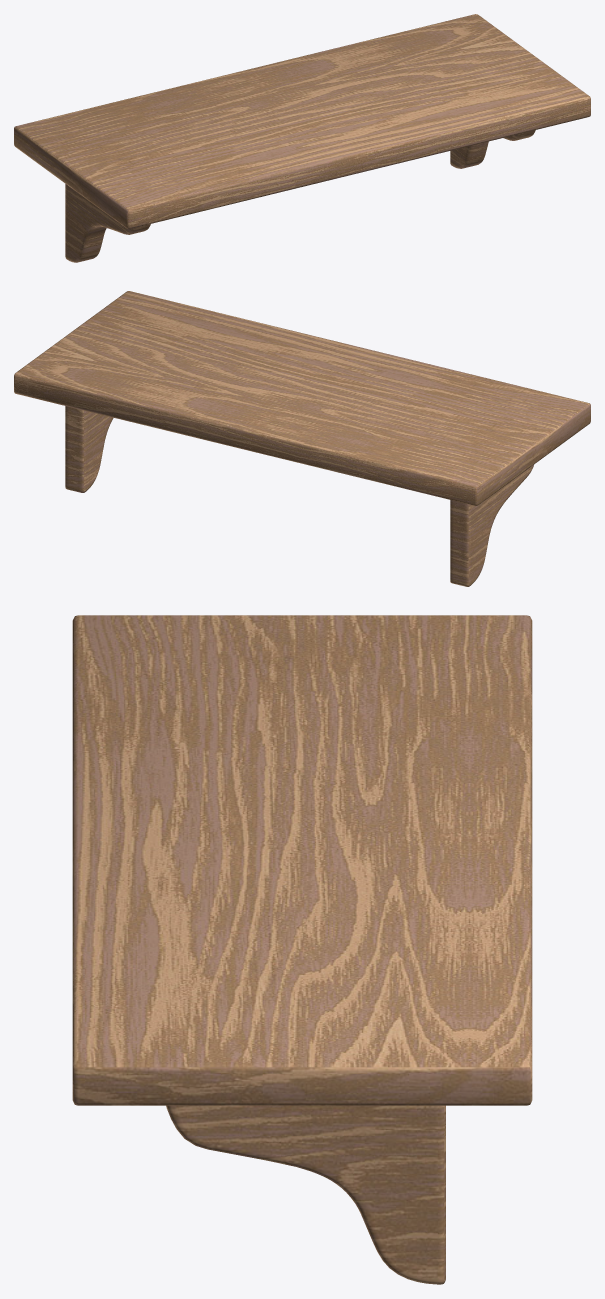
The model's file is floater.glb.
The picture shows the model from 3 angles, top to bottom: view 1: azimuth 30°, elevation 25°; view 2: azimuth 150°, elevation 25°; view 3: azimuth 270°, elevation 25°; orthographic projection. The views are drawn at different scales.
Visible parts, largest first — view 1: Shelf_2.001, Peg.002, Peg_2.001; view 2: Shelf_2.001, Peg.002, Peg_2.001; view 3: Shelf_2.001, Peg_2.001.
Part boxes in pixels (<box>): Shelf_2.001: <box>14,14,590,228</box>; Peg.002: <box>65,184,150,262</box>; Peg_2.001: <box>450,130,535,168</box>; Shelf_2.001: <box>14,291,590,505</box>; Peg.002: <box>450,465,533,586</box>; Peg_2.001: <box>65,406,113,492</box>; Shelf_2.001: <box>72,615,532,1105</box>; Peg_2.001: <box>166,1105,445,1284</box>.
Bounding box in the file's own units: 1.69 × 0.4328 × 0.7221.
1 material, 1 textured.
